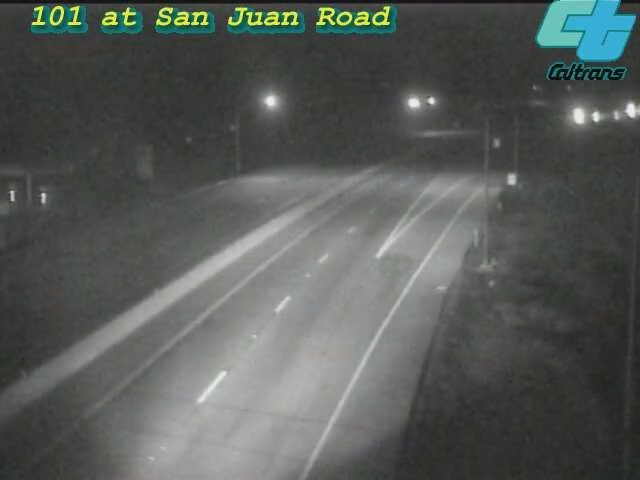vehicle: (572, 92, 622, 142), (553, 90, 603, 140), (592, 89, 640, 139), (604, 86, 640, 136)
